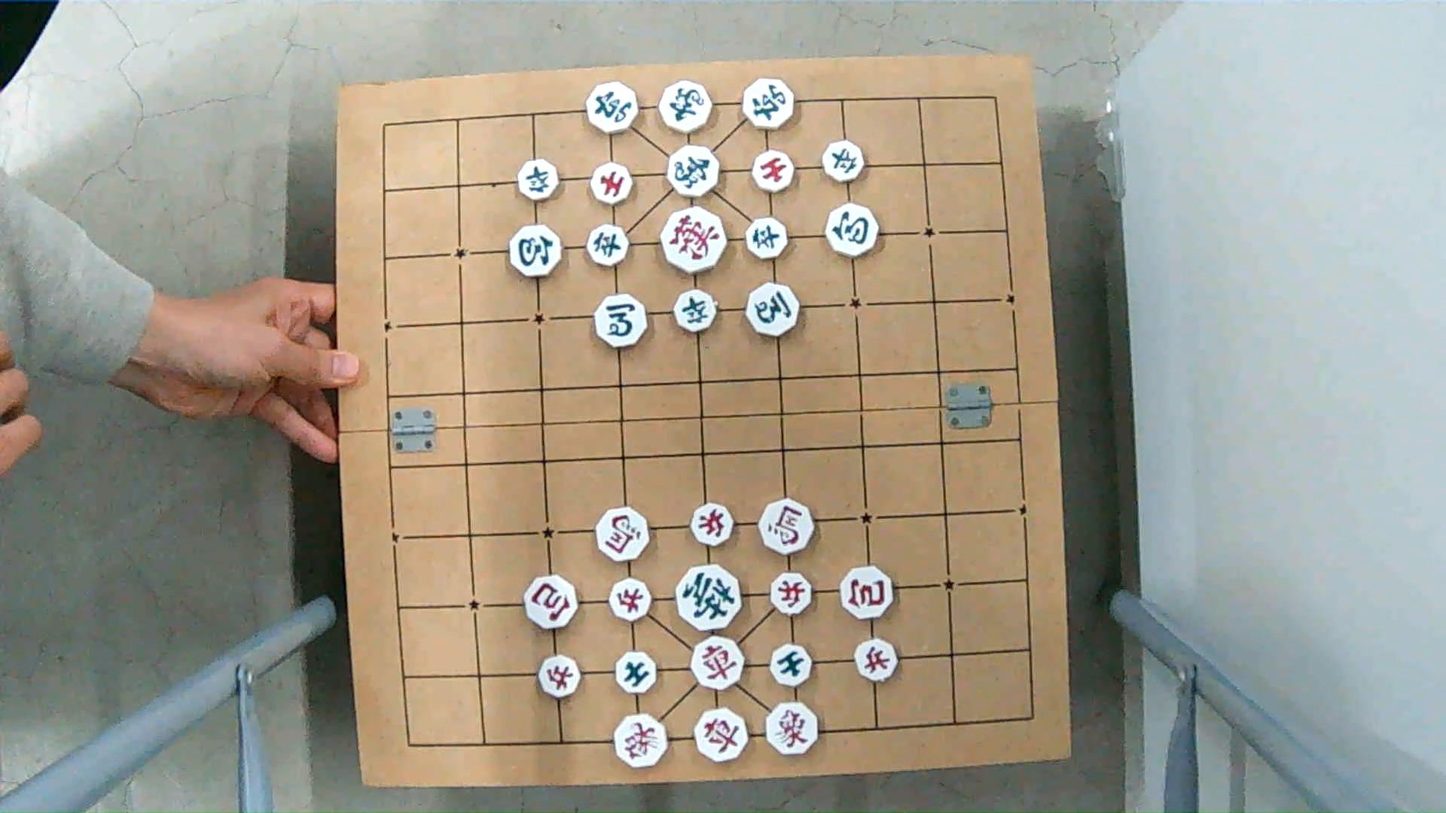cha_green: (587, 85, 646, 132), (743, 80, 800, 128)
cha_red: (691, 711, 752, 760), (689, 640, 747, 690)
jol_green: (674, 288, 719, 335), (743, 215, 791, 257), (586, 223, 632, 266), (819, 144, 865, 182), (517, 162, 562, 200)
jol_red: (691, 505, 737, 548), (850, 641, 901, 679), (767, 574, 815, 614), (538, 657, 585, 696), (609, 577, 650, 620)
ma_green: (747, 284, 807, 333), (593, 297, 650, 346)
ma_red: (595, 511, 655, 561), (758, 504, 817, 553)
po_green: (825, 206, 883, 256), (506, 229, 563, 278)
po_red: (520, 577, 578, 626), (837, 568, 895, 616)
sa_green: (768, 647, 815, 687), (615, 653, 661, 693)
sa_red: (749, 152, 798, 190), (590, 165, 636, 203)
sang_green: (661, 150, 719, 197), (660, 78, 712, 129)
sang_red: (761, 705, 822, 754), (609, 717, 670, 766)
wang_green: (675, 571, 746, 629)
wang_red: (659, 210, 731, 275)
